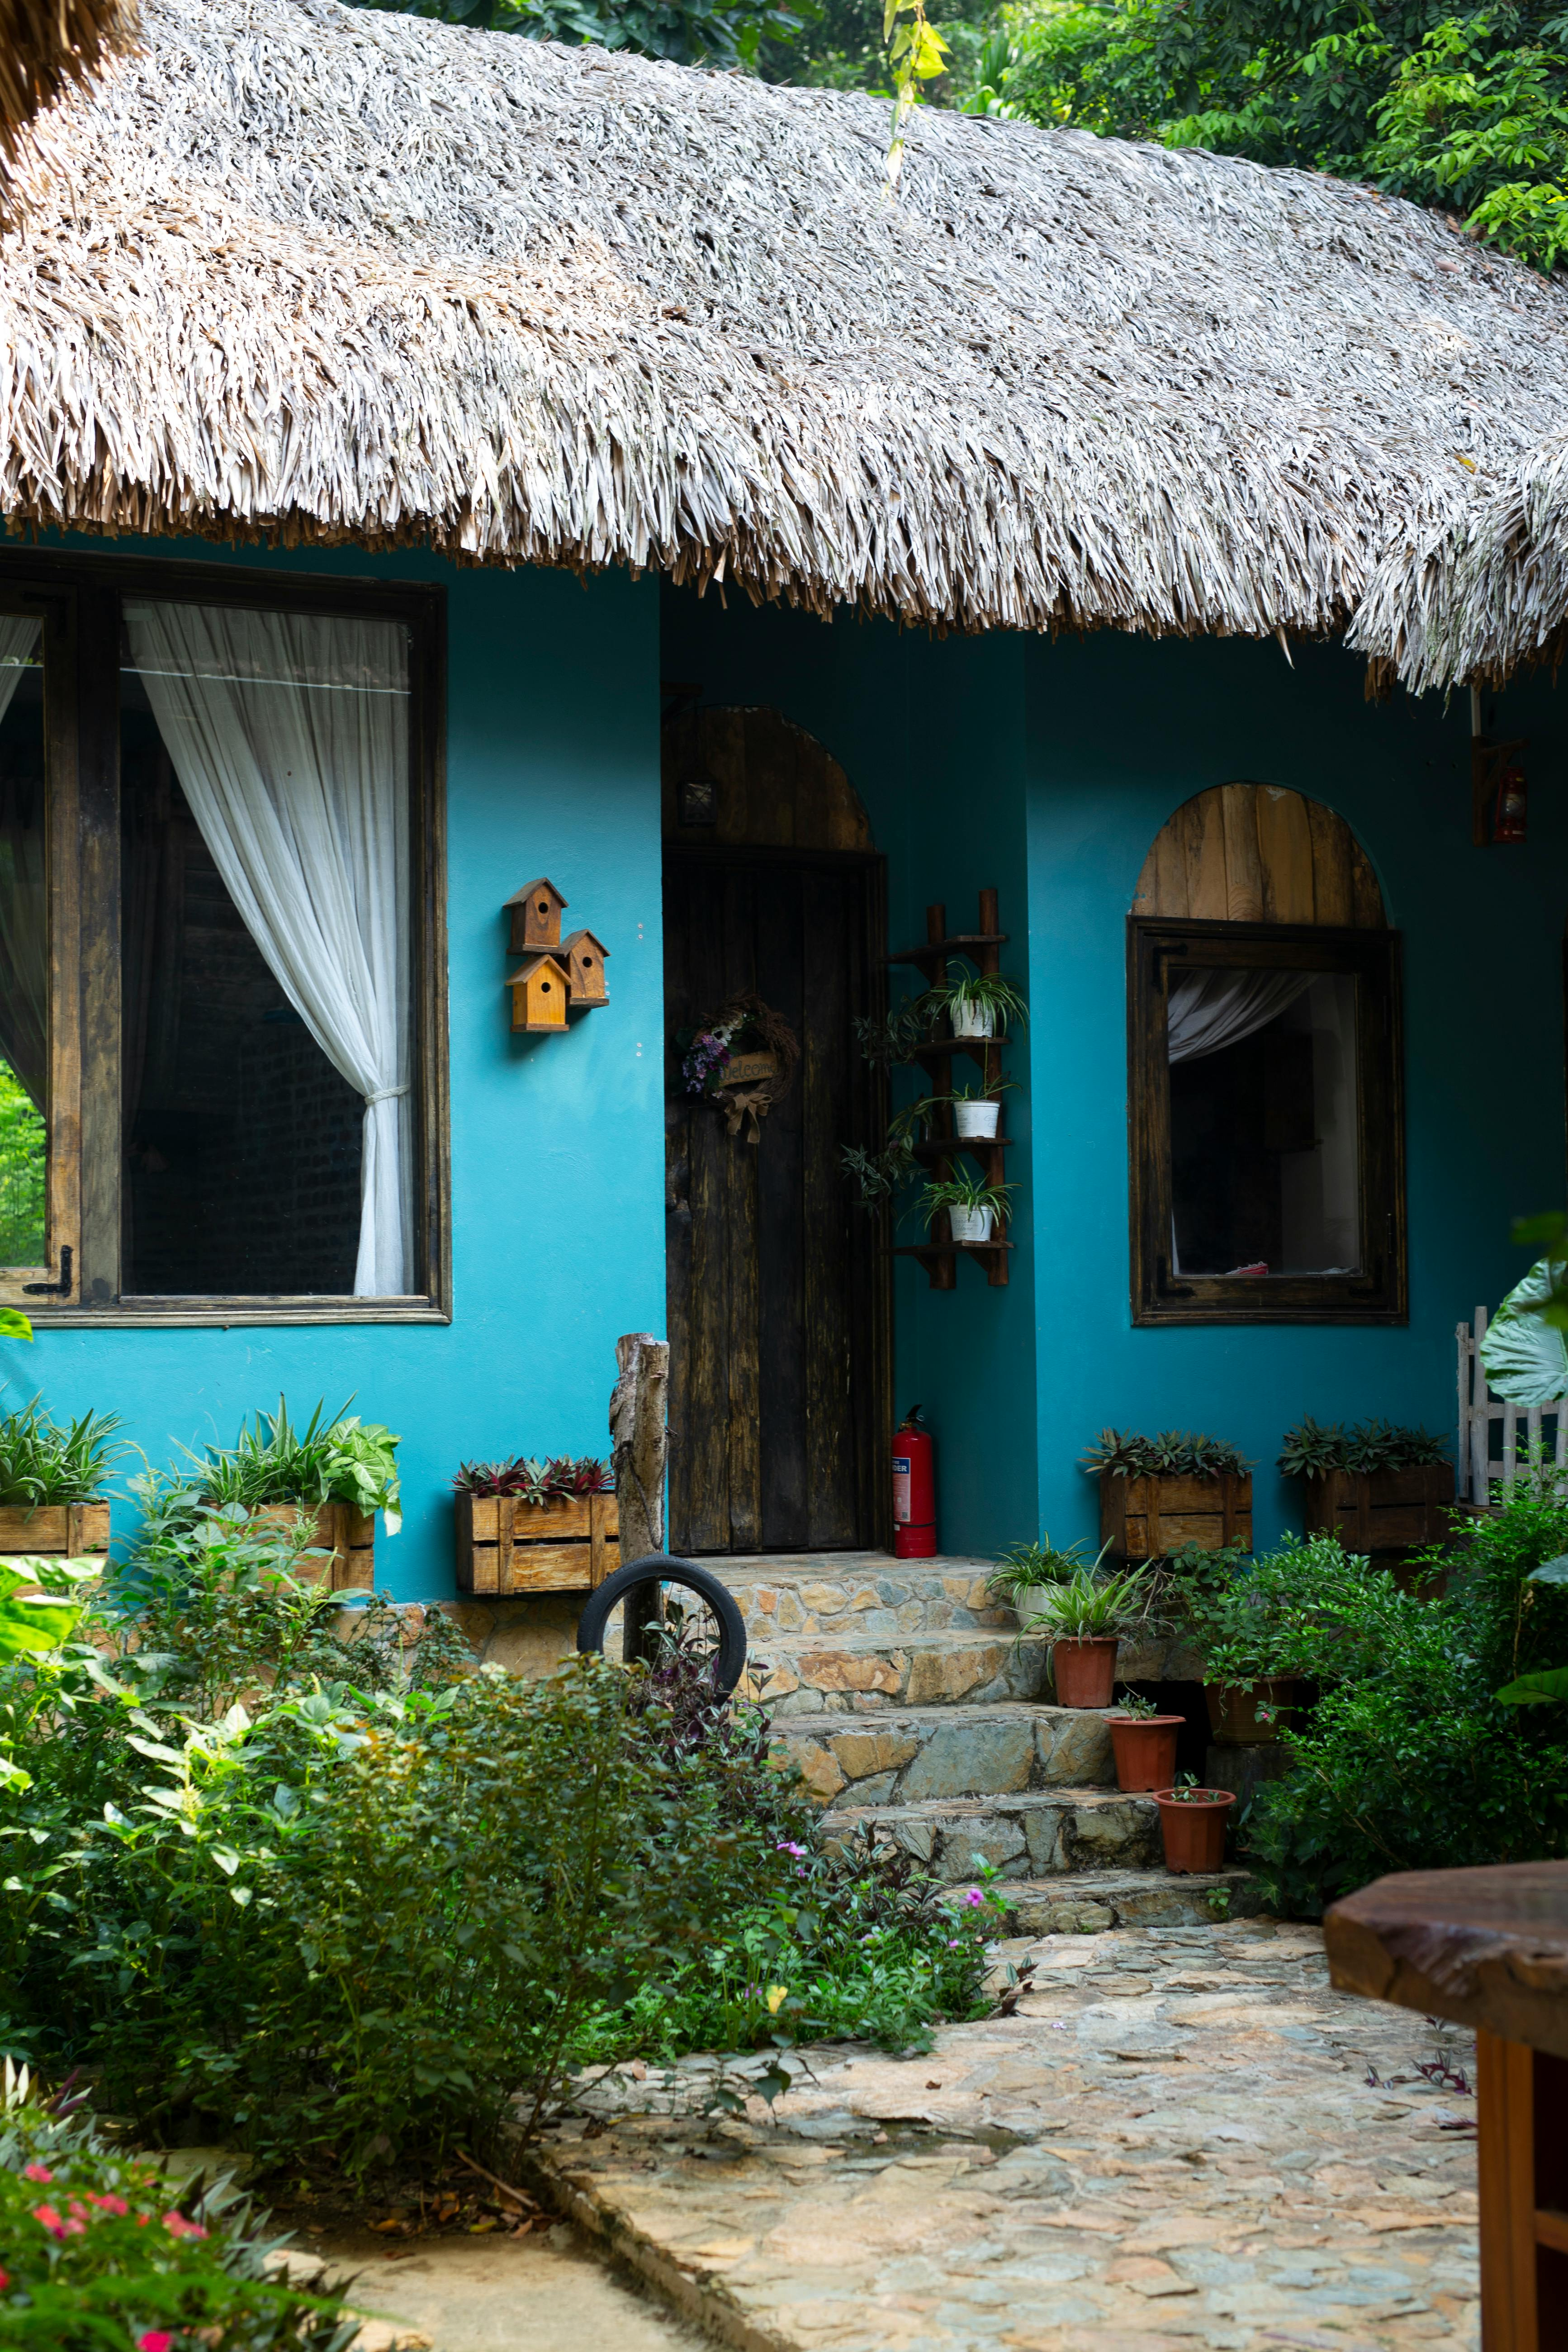extintor: (875, 1395, 950, 1575)
